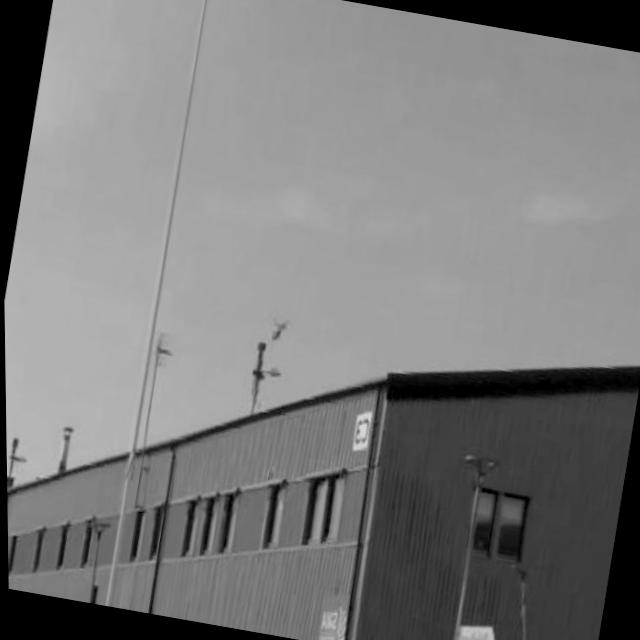helikopter: (262, 308, 295, 349)
